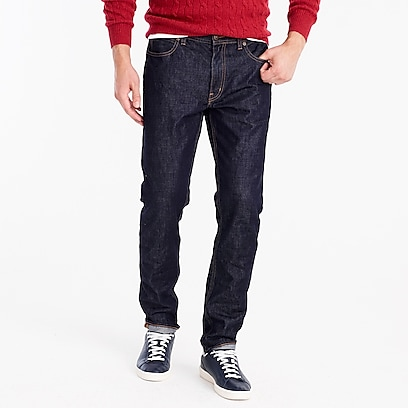jeans: (134, 31, 262, 344)
